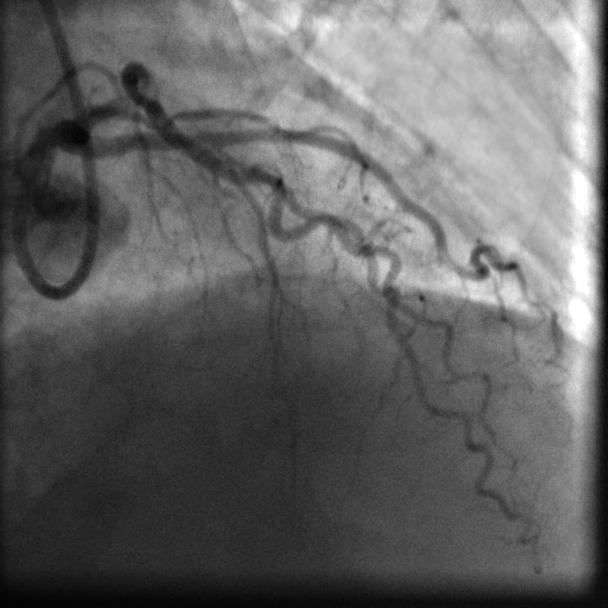Stenosis: (125, 76, 155, 107)
